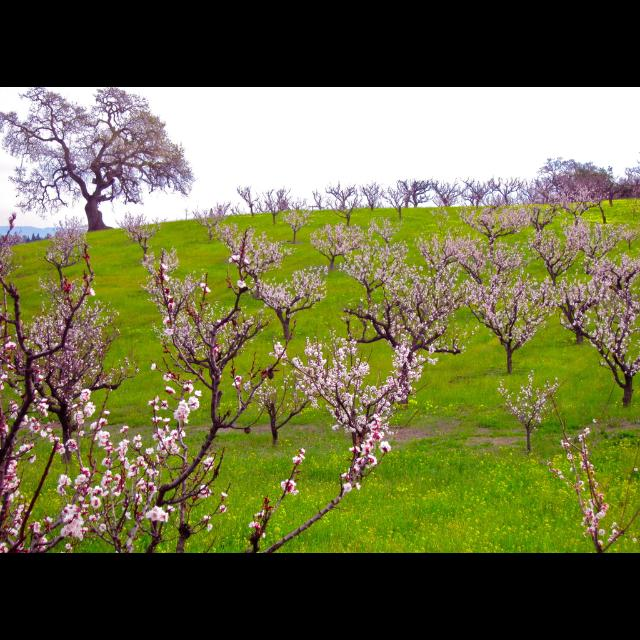Flower: (1, 155, 640, 553), (175, 400, 189, 424)
